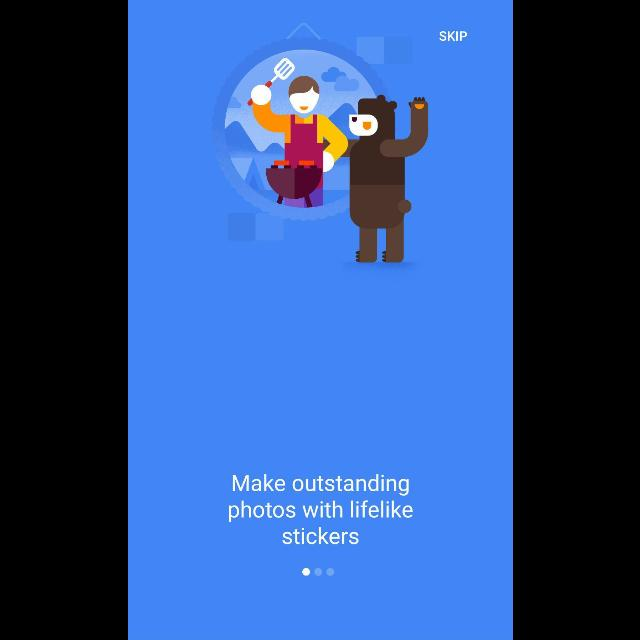image: (210, 23, 428, 263)
pageindicator: (302, 568, 334, 576)
text: (228, 474, 412, 544), (439, 31, 467, 41)
